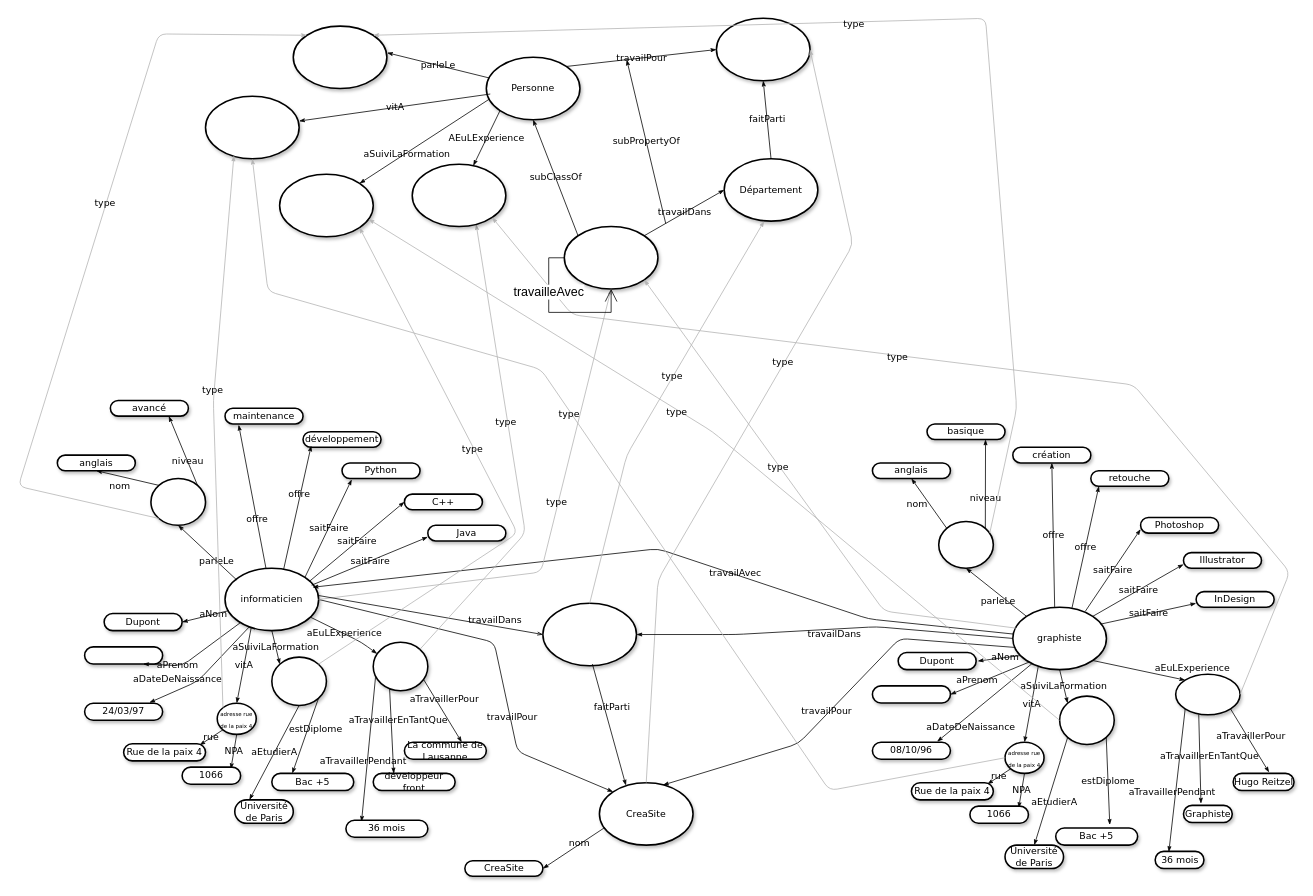
Image size: 1313x896. Some labels were removed from this diagram. Each missing label, with the centre of its shape:
"Adresse" goes at pixel 252 128.
"anglais avancé" goes at pixel 179 502.
"anglais basique" goes at pixel 966 545.
"commune de Lausanne" goes at pixel 401 667.
"Compétence Linguistique" goes at pixel 340 58.
"departement01" goes at pixel 590 635.
"Employé" goes at pixel 611 258.
"Entreprise" goes at pixel 763 50.
"Expérience" goes at pixel 459 196.
"Formation" goes at pixel 326 206.
"formation Stratégie Du Design" goes at pixel 1087 721.
"formation UFR informatique" goes at pixel 300 682.
"hugo" goes at pixel 1208 695.
"Jean" goes at pixel 124 656.
"Jeanne" goes at pixel 912 695.
